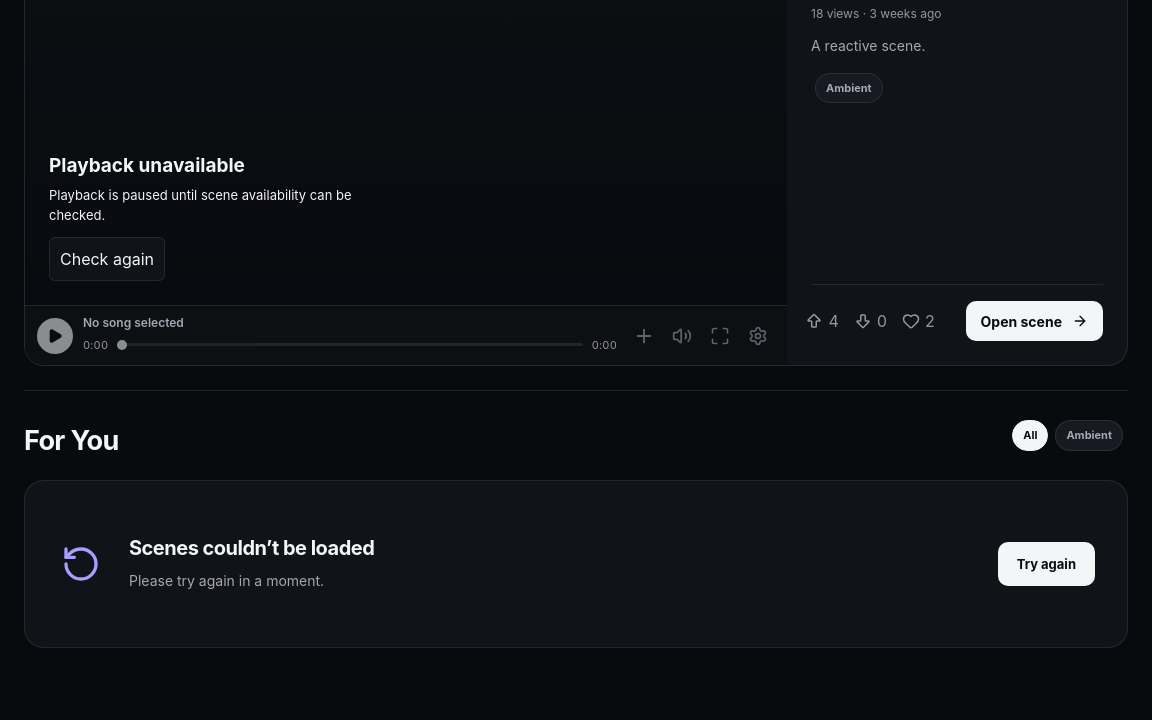
Test: Homepage mockup behavior › shows a retry when scene loading fails
(page scrolled)
Check: the message "Scenes couldn’t be loaded Please try again in a moment. Try again" is shown, box [24,480,1128,648]
Click the button "Try again" at (1046, 564), box [998,542,1095,586]
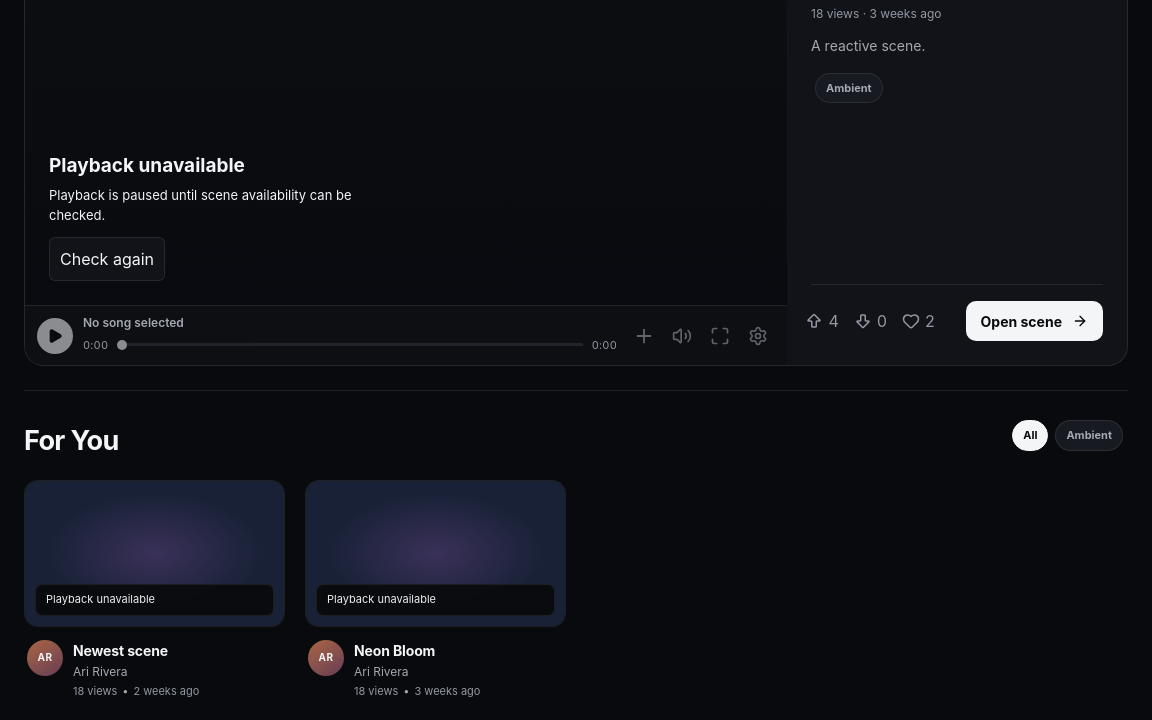
Check: the link "Newest scene" is shown, box [73,642,168,659]
